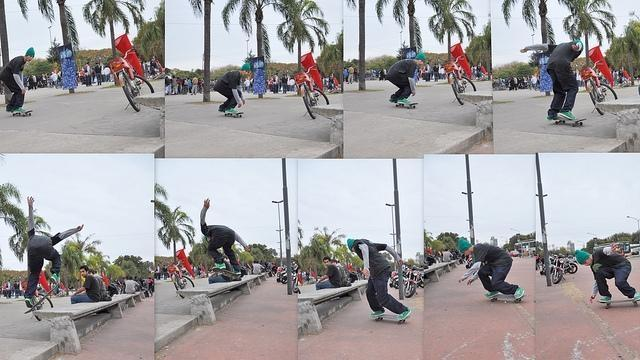bicycle: (583, 58, 616, 115), (294, 65, 328, 119), (444, 55, 476, 105), (120, 70, 154, 111), (164, 258, 197, 300), (31, 286, 54, 310)
motorcycle: (403, 268, 424, 297), (550, 254, 566, 284)
